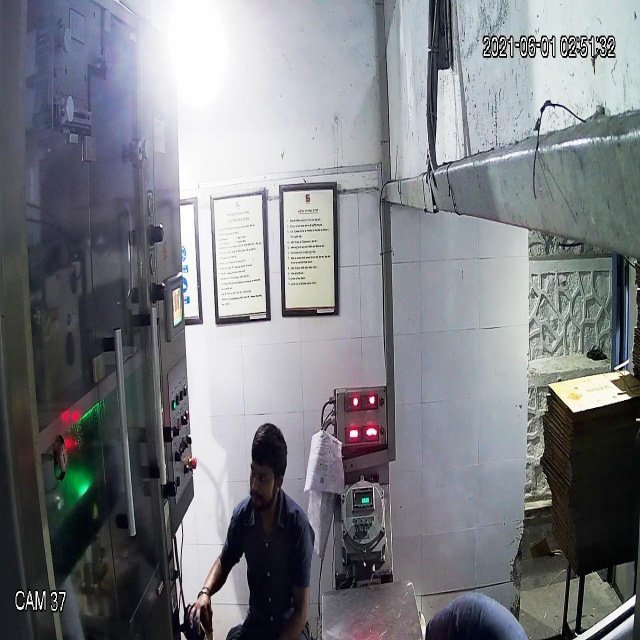Sin_gafas: (245, 456, 284, 486)
